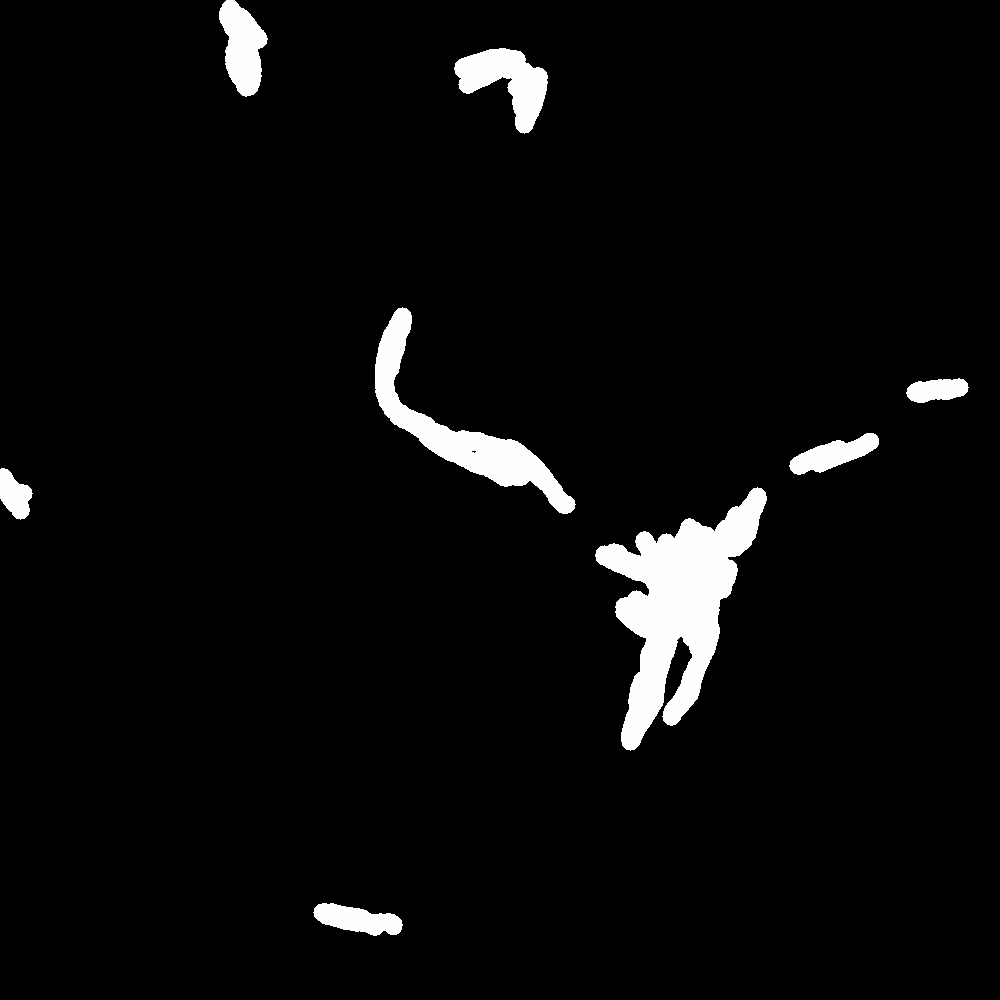illegal: (596, 478, 785, 729), (450, 433, 591, 517), (428, 38, 559, 102), (379, 307, 432, 439), (206, 1, 268, 88), (589, 73, 690, 109), (1, 469, 26, 506)
